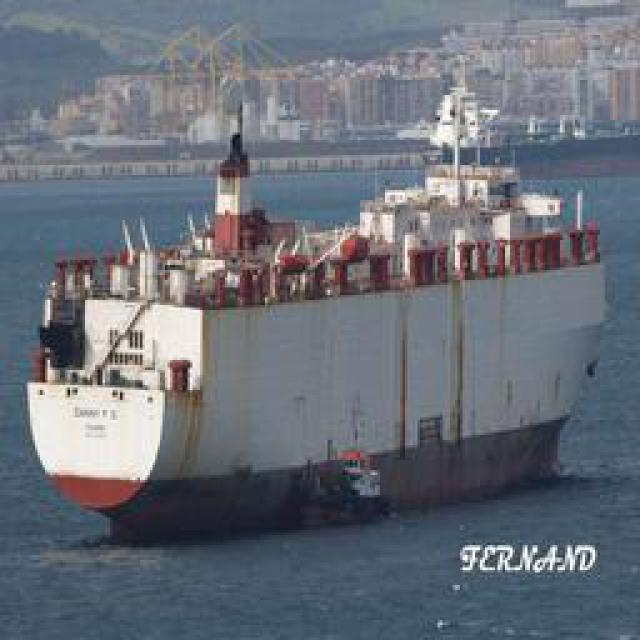Ship: (26, 45, 619, 550)
